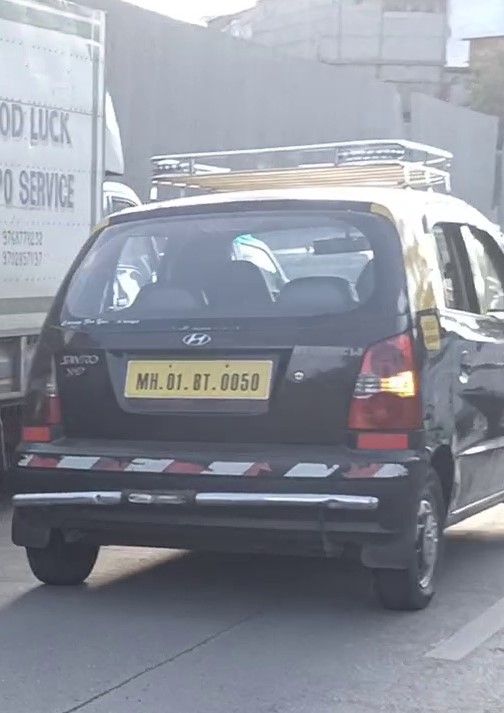MH01BT0050: (123, 358, 273, 401)
